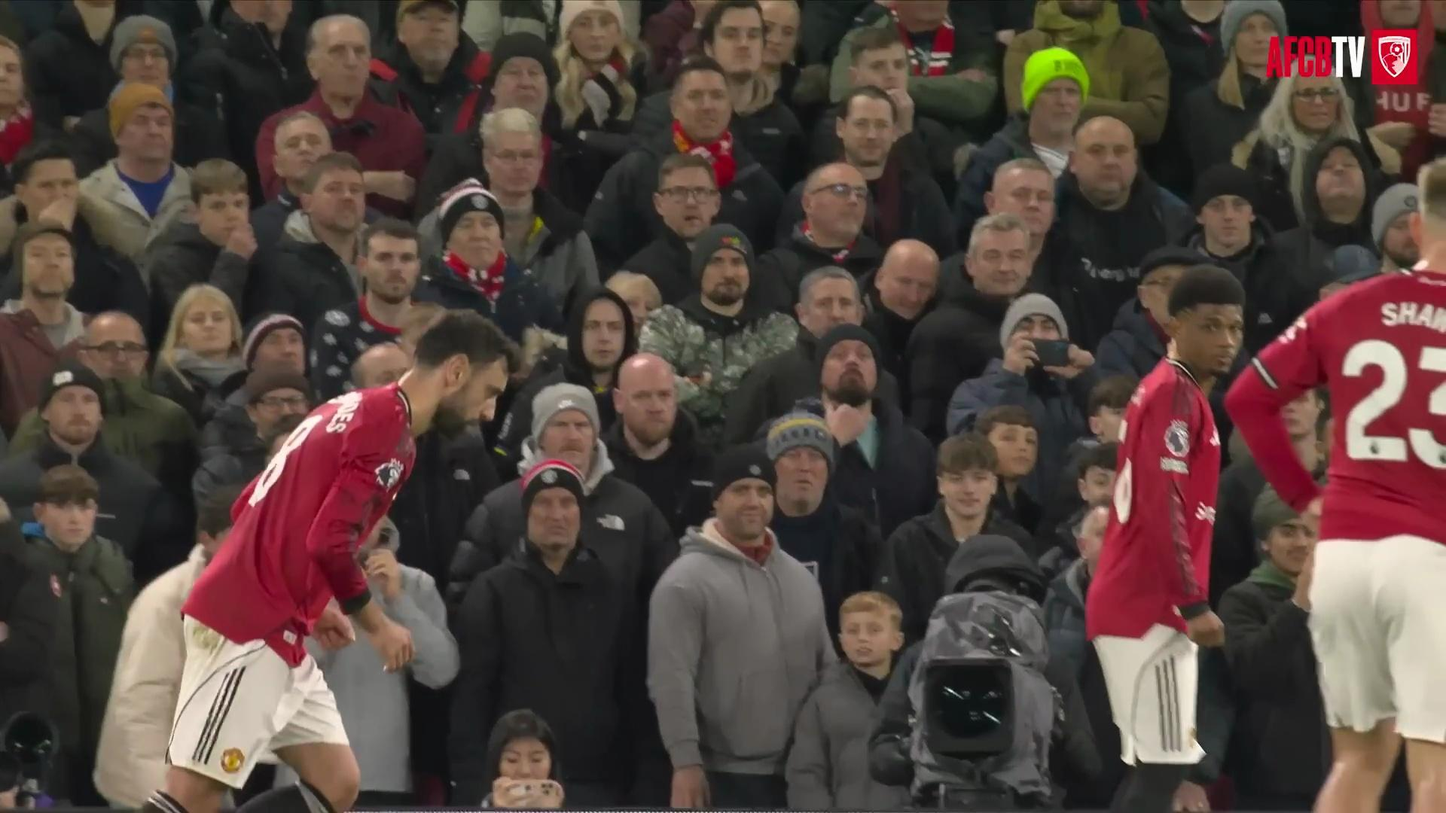player: (142, 311, 516, 812), (1226, 162, 1445, 812), (1087, 265, 1244, 812)
